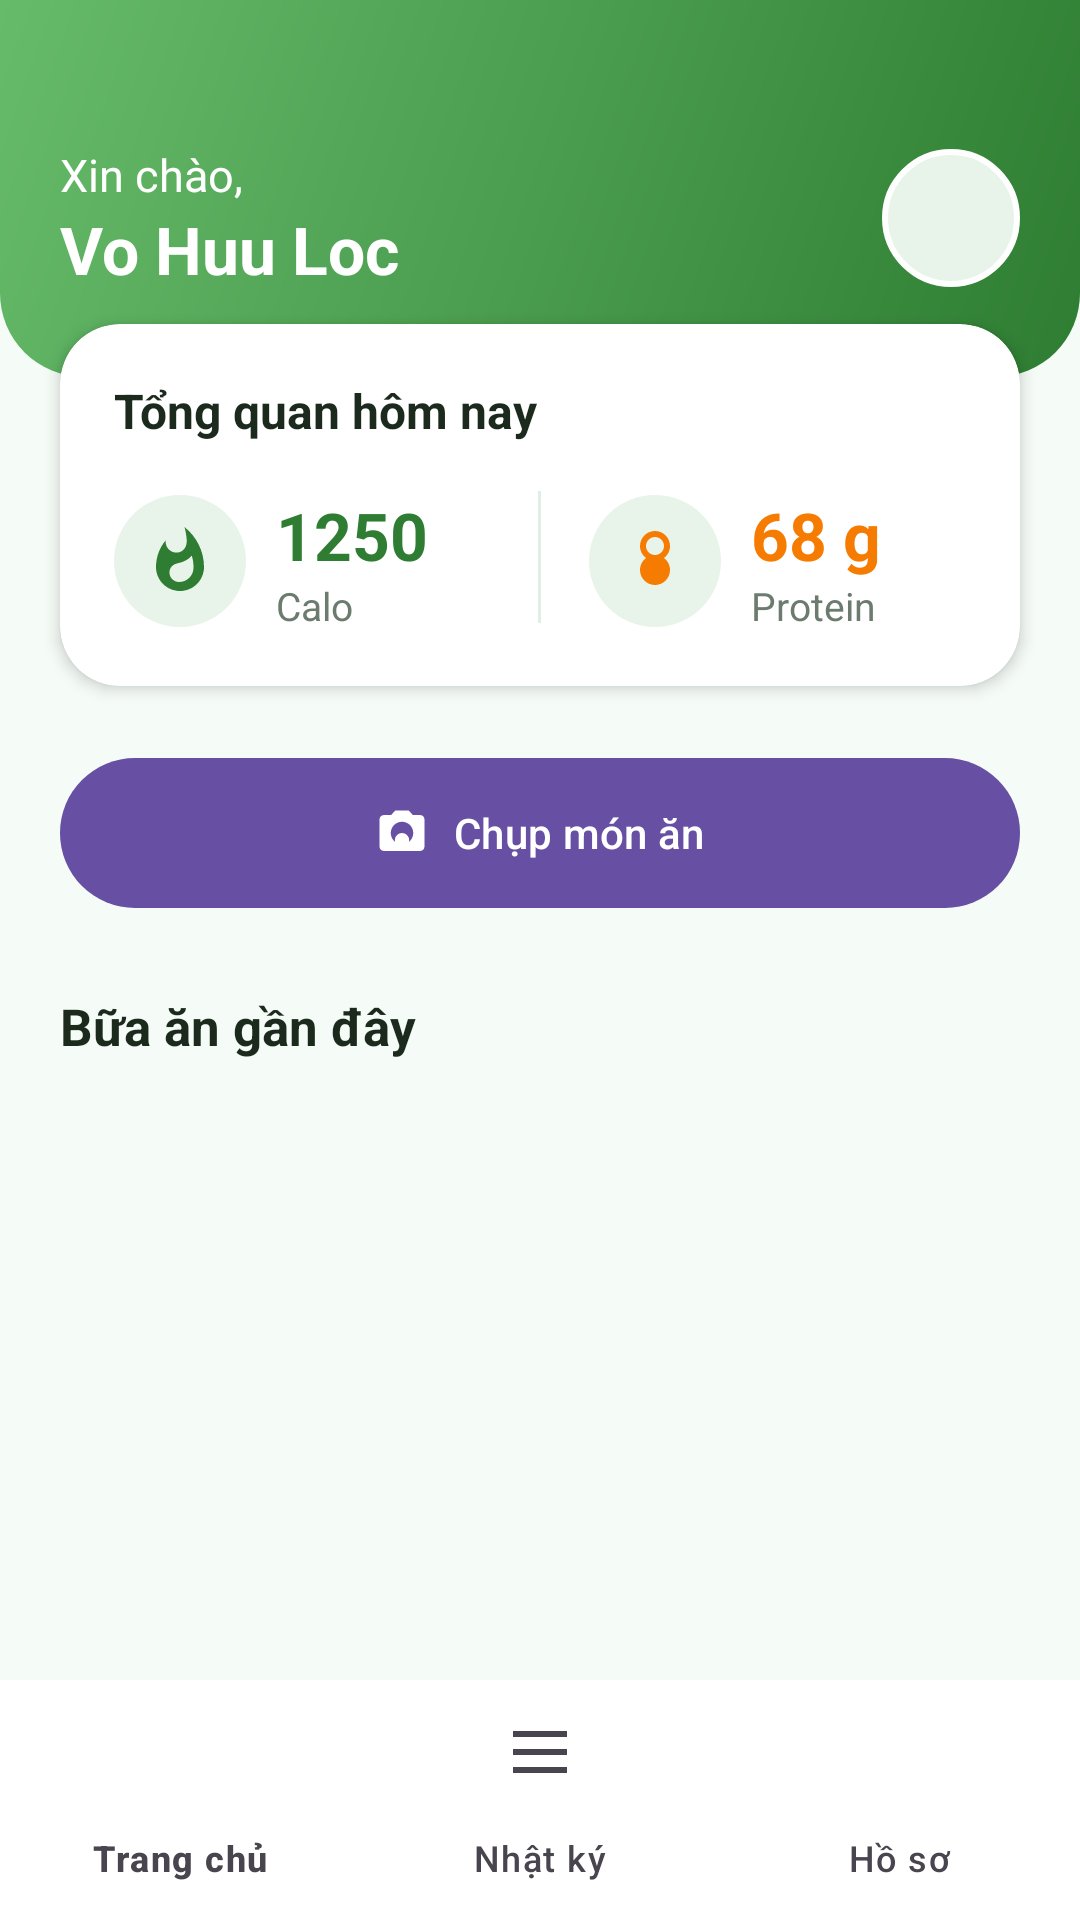

Icons on this 1080×1920 Android screen, each with its box as (x1, y1, x2, y2):
fire: (156, 527, 204, 591)
